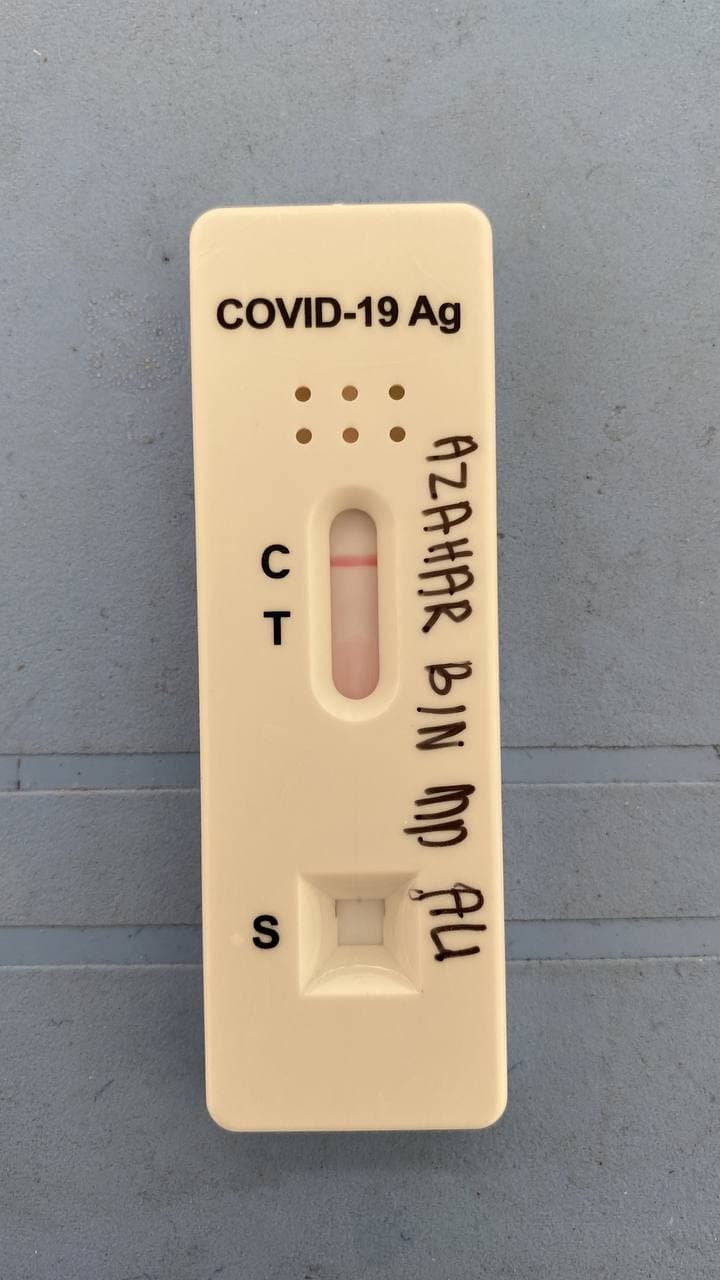rapid_test: (192, 219, 506, 1129)
